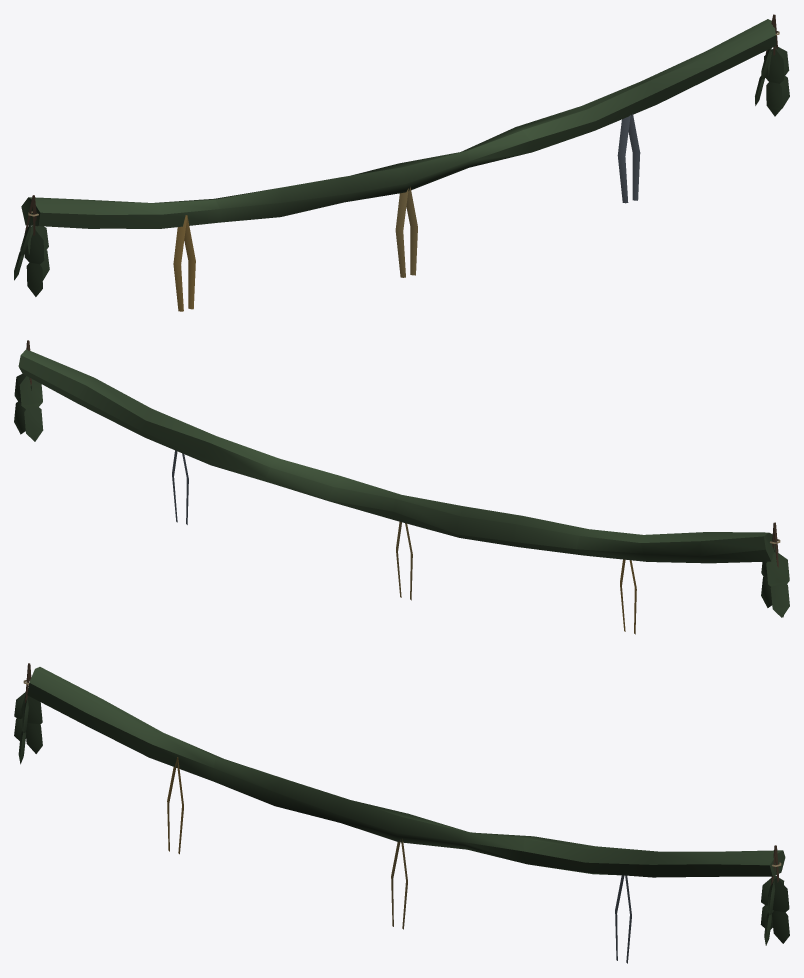
Rendered from ph_int_inn_fest_decor.glb.
3 views of the same model, one above another, from view 1: azimuth 30°, elevation 25°; view 2: azimuth 150°, elevation 25°; view 3: azimuth 330°, elevation 25° (orthographic).
Visible parts, largest first — view 1: ph_int_inn_fest_decor; view 2: ph_int_inn_fest_decor; view 3: ph_int_inn_fest_decor.
Boxes of the visible parts, <box> form: ph_int_inn_fest_decor: <box>14,14,789,311</box>; ph_int_inn_fest_decor: <box>14,340,789,634</box>; ph_int_inn_fest_decor: <box>14,663,789,963</box>.
Bounding box in the file's own units: 3.13 × 0.6515 × 0.1387.
